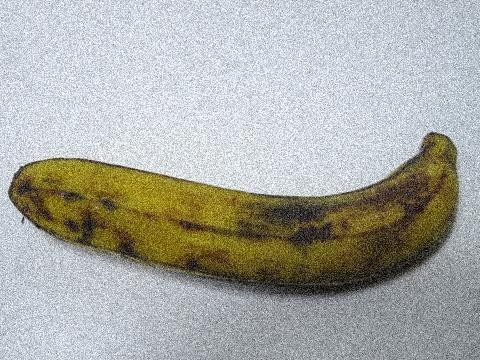overripe: (7, 103, 469, 305)
